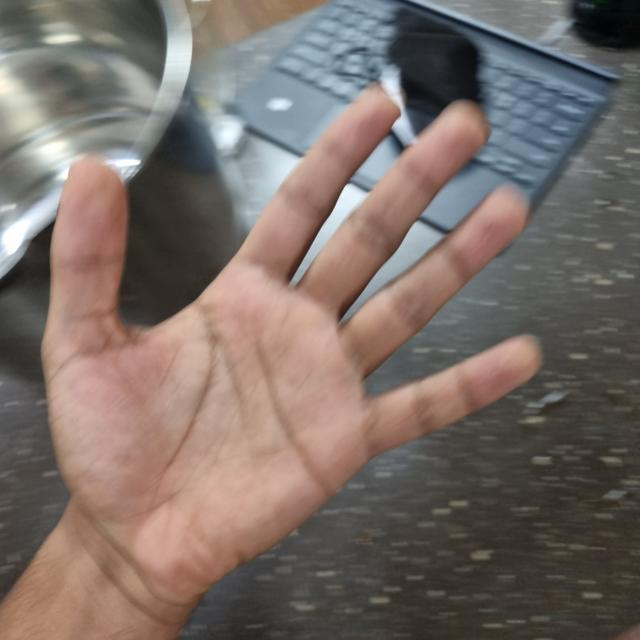Paper: (43, 91, 531, 586)
